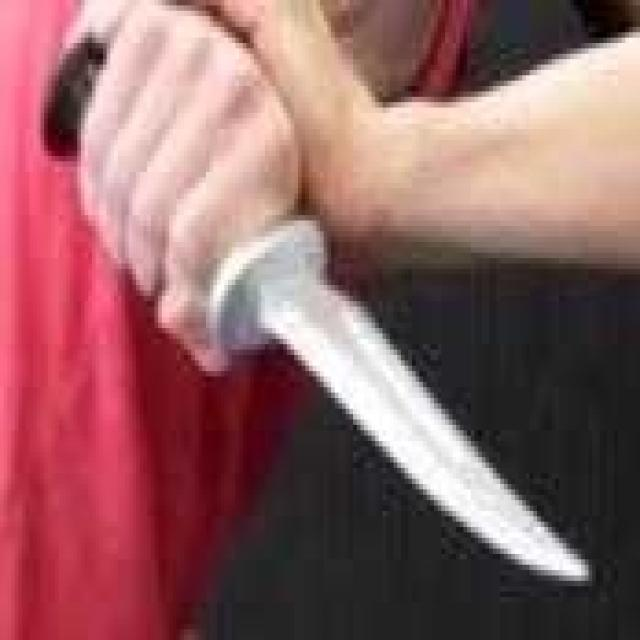Knife: (42, 25, 599, 592)
